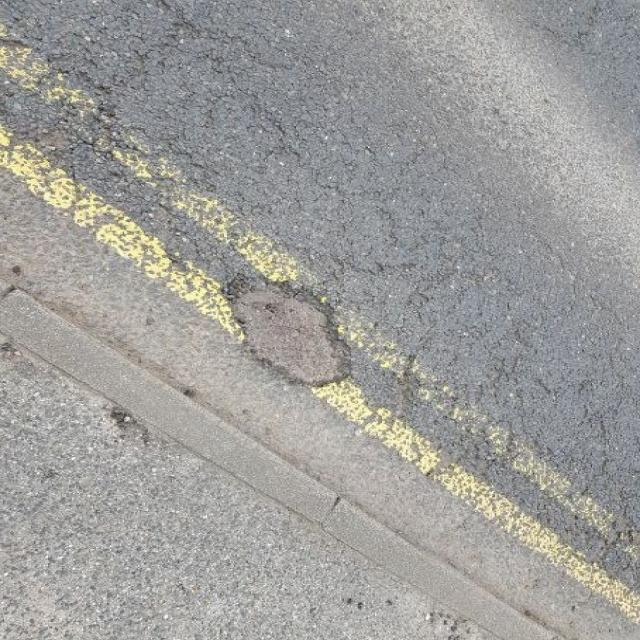Pothole: (221, 269, 364, 389)
